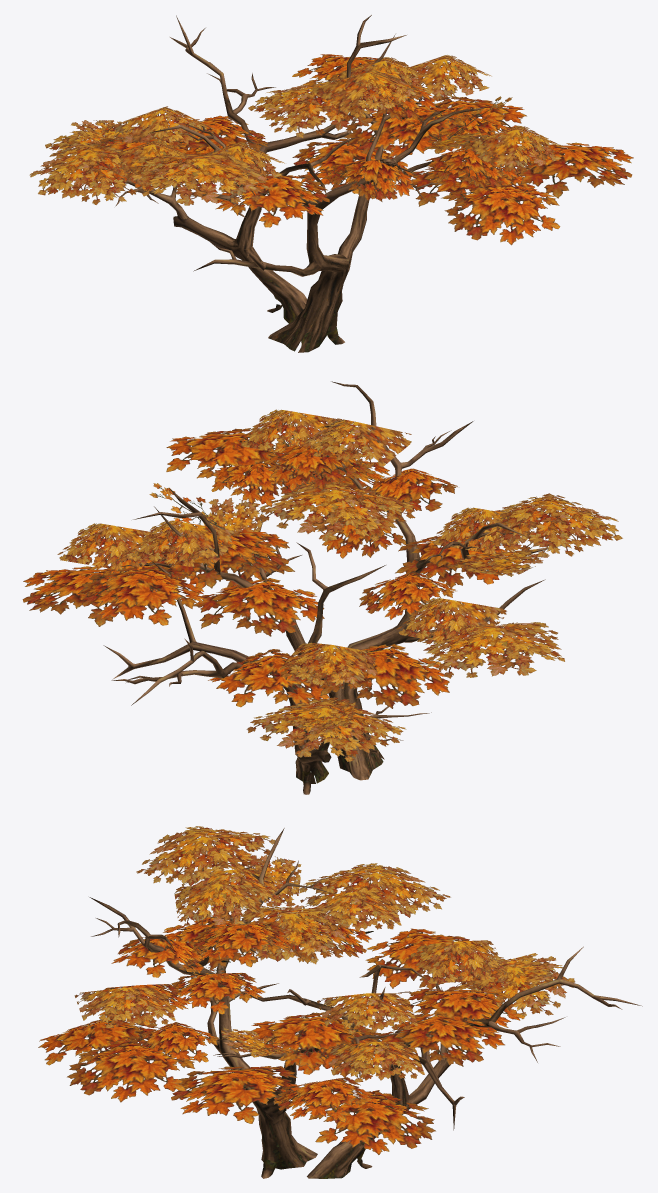
The model's file is 7003_Item_shu_4.FBX.
3 renders of one model, top to bottom at view 1: azimuth 30°, elevation 25°; view 2: azimuth 150°, elevation 25°; view 3: azimuth 270°, elevation 25°, orthographic. The views are drawn at different scales.
Visible parts, largest first — view 1: 7003_Item_shu_4; view 2: 7003_Item_shu_4; view 3: 7003_Item_shu_4.
Part boxes in pixels (x1,y1,x2,y2): 7003_Item_shu_4: (29,15,633,352); 7003_Item_shu_4: (22,381,622,794); 7003_Item_shu_4: (38,826,642,1178).
Bounding box in the file's own units: 622 × 624 × 322.
1 material, 1 textured.
